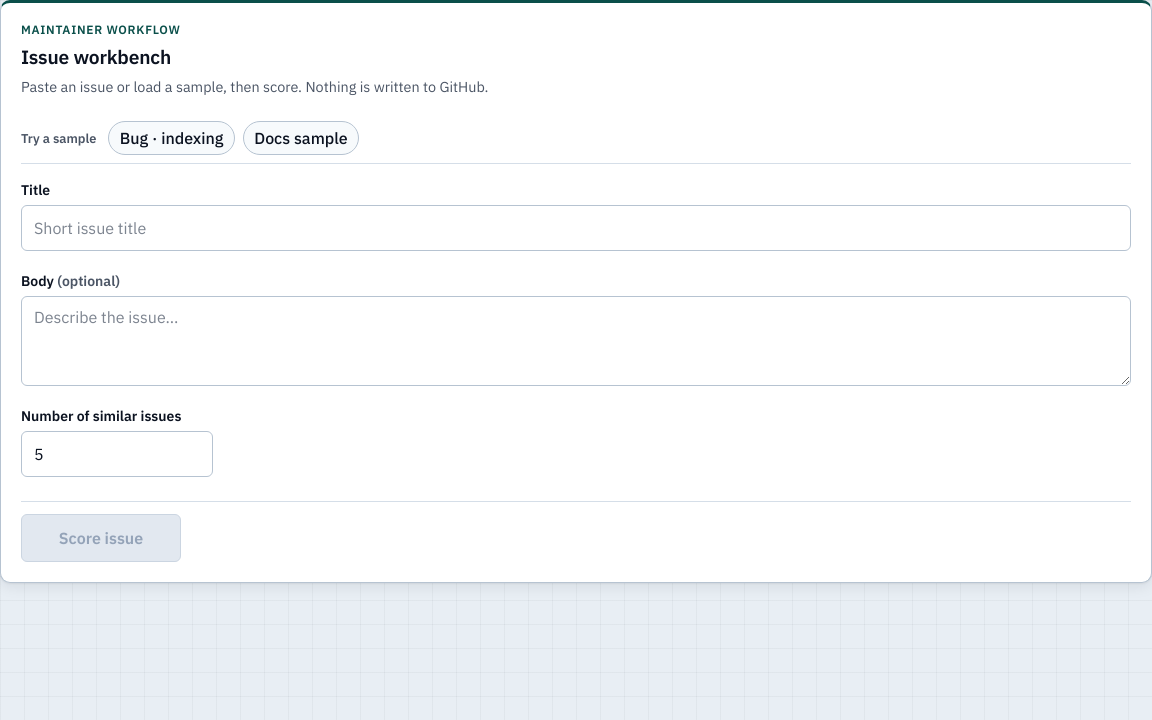
Test: IssueInputForm samples › updates controlled inputs with title, body, and similar-issues count
Expected: the button "Score issue" is disabled, [21, 514, 181, 562]
Click the button "Bug · indexing" at (172, 138), box [108, 121, 235, 155]
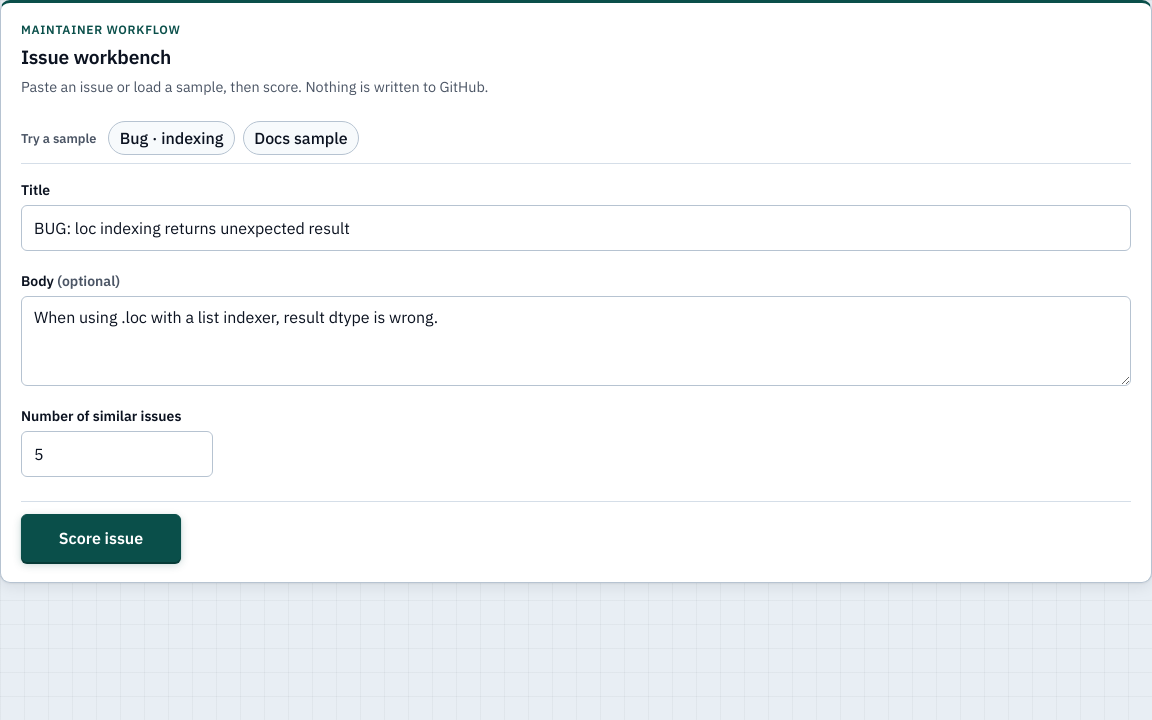
Expected: the field labelled "Title" holds "BUG: loc indexing returns unexpected result", [21, 205, 1131, 251]
Expected: the text box labelled "Body (optional)" holds "When using .loc with a list indexer, result dtype is wrong.", [21, 296, 1131, 386]
Expected: the button "Score issue" is enabled, [21, 514, 181, 562]
